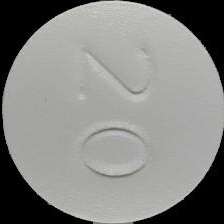54868-4775: (0, 0, 224, 224)
